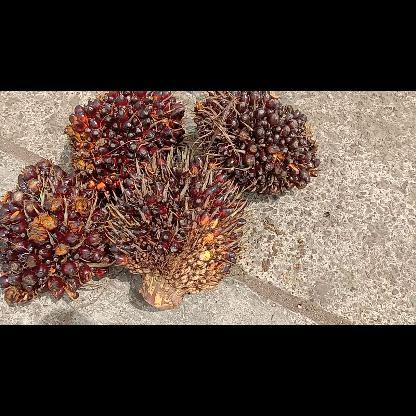Kurang masak: (103, 147, 249, 313), (0, 152, 112, 307), (192, 91, 322, 199), (60, 91, 188, 197)
